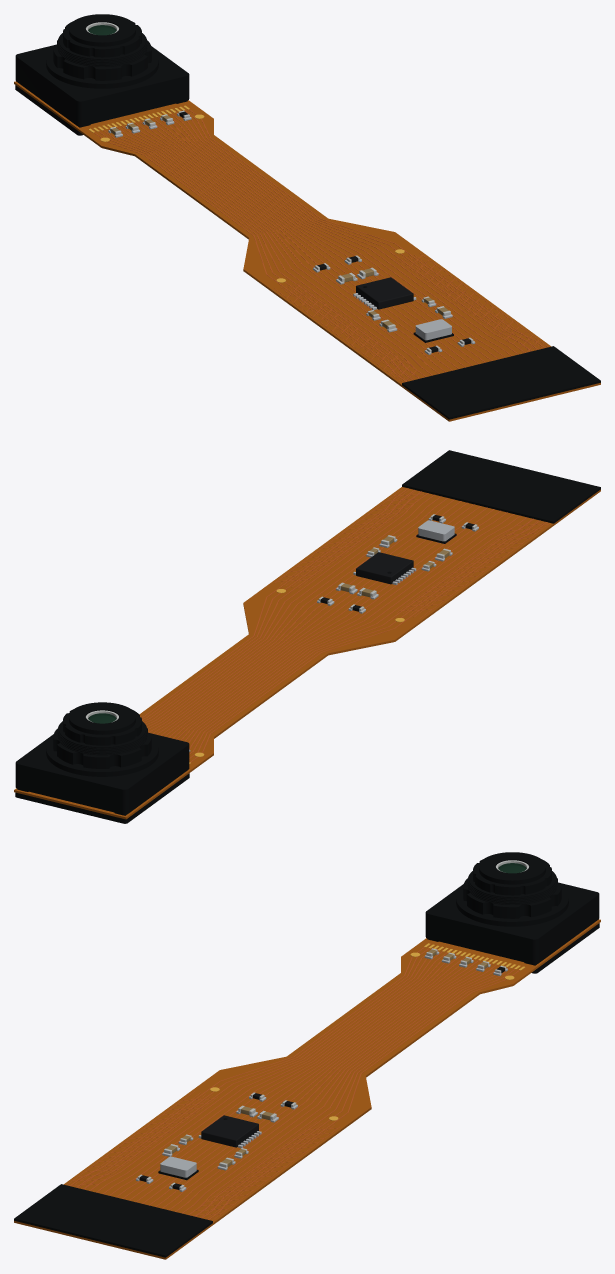
The model's file is OV5647_ZeroCam.glb.
The picture shows the model from 3 angles, top to bottom: view 1: azimuth 30°, elevation 25°; view 2: azimuth 150°, elevation 25°; view 3: azimuth 330°, elevation 25°; orthographic projection.
Visible parts, largest first — view 1: FPC_Front_Coverlay, Connector_Rear_Stiffener, Lens_Carrier_8_5mm_Hollow, Lens_Front_Baffle, Barrel_Lower_Scalloped, FPC_Polyimide_Core, Barrel_Base_Flange, Interface_IC_Package, Barrel_Upper_Rim, Barrel_Focus_Ring, Clock_Crystal_Metal_Cap, FPC_Copper_Path_21 (+10 smaller); view 2: FPC_Front_Coverlay, Connector_Rear_Stiffener, Lens_Carrier_8_5mm_Hollow, Barrel_Lower_Scalloped, Lens_Front_Baffle, FPC_Polyimide_Core, Barrel_Base_Flange, Interface_IC_Package, Barrel_Upper_Rim, Camera_Island_Rear_Stiffener, Barrel_Focus_Ring, FPC_Copper_Path_01 (+11 smaller); view 3: FPC_Front_Coverlay, Connector_Rear_Stiffener, Lens_Carrier_8_5mm_Hollow, Barrel_Lower_Scalloped, Lens_Front_Baffle, FPC_Polyimide_Core, Barrel_Base_Flange, Interface_IC_Package, Barrel_Upper_Rim, Barrel_Focus_Ring, Clock_Crystal_Metal_Cap, FPC_Copper_Path_02 (+11 smaller).
Part boxes in pixels (bbox=[...]): FPC_Front_Coverlay: bbox=[14, 81, 599, 419]; Connector_Rear_Stiffener: bbox=[402, 346, 600, 419]; Lens_Carrier_8_5mm_Hollow: bbox=[15, 44, 189, 126]; Lens_Front_Baffle: bbox=[69, 14, 135, 46]; Barrel_Lower_Scalloped: bbox=[53, 40, 151, 80]; FPC_Polyimide_Core: bbox=[14, 82, 600, 421]; Barrel_Base_Flange: bbox=[46, 49, 158, 88]; Interface_IC_Package: bbox=[356, 277, 413, 309]; Barrel_Upper_Rim: bbox=[63, 21, 141, 57]; Barrel_Focus_Ring: bbox=[59, 33, 145, 65]; Clock_Crystal_Metal_Cap: bbox=[415, 319, 451, 340]; FPC_Copper_Path_21: bbox=[184, 110, 538, 349]; FPC_Front_Coverlay: bbox=[14, 487, 600, 817]; Connector_Rear_Stiffener: bbox=[402, 450, 600, 523]; Lens_Carrier_8_5mm_Hollow: bbox=[15, 732, 189, 814]; Barrel_Lower_Scalloped: bbox=[53, 728, 151, 768]; Lens_Front_Baffle: bbox=[69, 702, 135, 734]; FPC_Polyimide_Core: bbox=[14, 490, 600, 819]; Barrel_Base_Flange: bbox=[46, 737, 158, 776]; Interface_IC_Package: bbox=[356, 552, 413, 584]; Barrel_Upper_Rim: bbox=[63, 709, 141, 745]; Camera_Island_Rear_Stiffener: bbox=[15, 773, 189, 823]; Barrel_Focus_Ring: bbox=[59, 721, 145, 754]; FPC_Copper_Path_01: bbox=[190, 522, 547, 762]; FPC_Front_Coverlay: bbox=[15, 919, 600, 1257]; Connector_Rear_Stiffener: bbox=[14, 1184, 212, 1257]; Lens_Carrier_8_5mm_Hollow: bbox=[425, 882, 599, 964]; Barrel_Lower_Scalloped: bbox=[463, 878, 561, 918]; Lens_Front_Baffle: bbox=[479, 852, 545, 884]; FPC_Polyimide_Core: bbox=[14, 920, 600, 1259]; Barrel_Base_Flange: bbox=[456, 887, 568, 926]; Interface_IC_Package: bbox=[201, 1115, 258, 1147]; Barrel_Upper_Rim: bbox=[473, 859, 551, 895]; Barrel_Focus_Ring: bbox=[469, 871, 555, 903]; Clock_Crystal_Metal_Cap: bbox=[160, 1156, 196, 1177]; FPC_Copper_Path_02: bbox=[76, 948, 429, 1187].
Size of the model in its own units: 0.0115 by 0.0051 by 0.0597.
